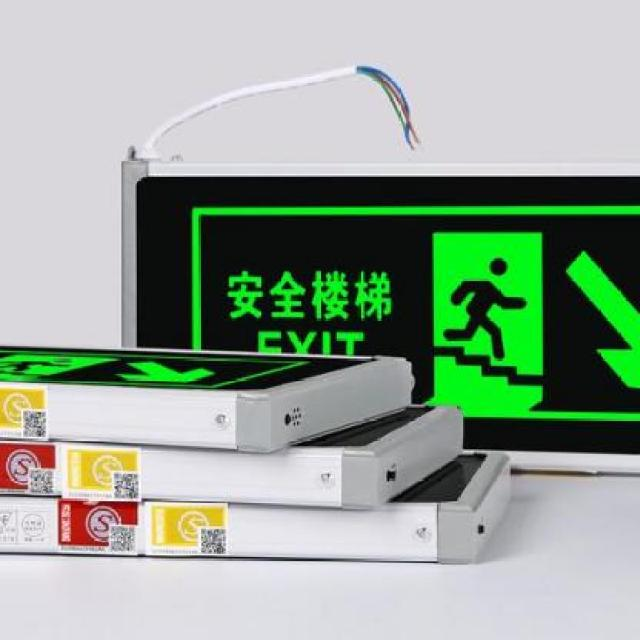exit_sign: (84, 116, 640, 485)
